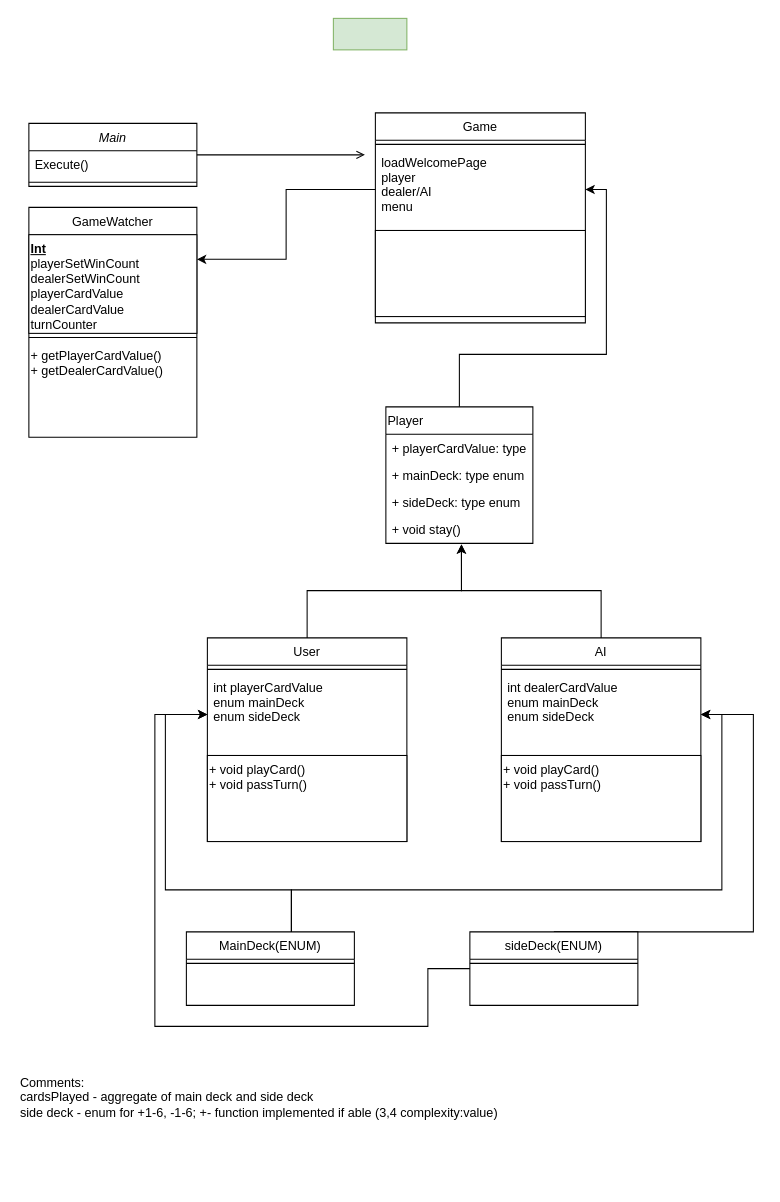
The diagram is 780 pixels wide and 1202 high, and some of its shapes have lost their labels. Each missing label, with the centre of its shape:
"+ displayInstructions() + playGame() + cardsPlayed()" goes at (x=479, y=273).
"PAZAAK" goes at (x=369, y=33).
